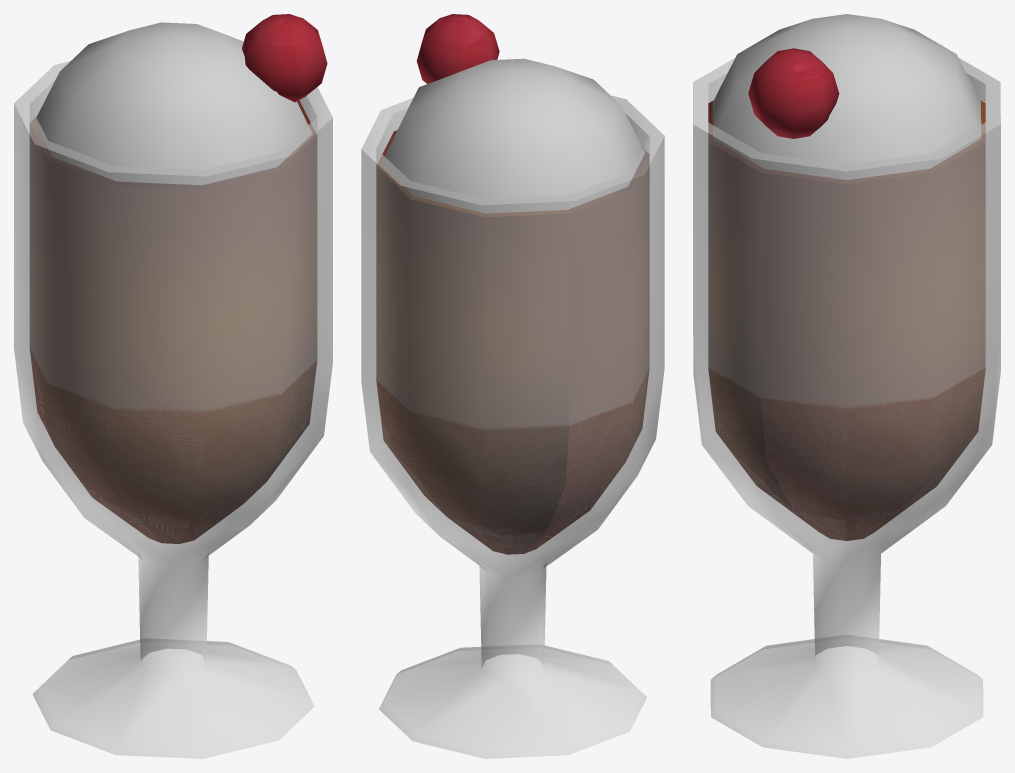
Rendered from prop_foodmenu10c.fbx.
3 renders of one model, left to right at view 1: azimuth 30°, elevation 25°; view 2: azimuth 150°, elevation 25°; view 3: azimuth 270°, elevation 25°, orthographic. The views are drawn at different scales.
Parts seen in each view (by area): view 1: prop_foodmenu10c; view 2: prop_foodmenu10c; view 3: prop_foodmenu10c.
Boxes of the visible parts, box(x1,y1,x2,y2) form: prop_foodmenu10c: box(14, 14, 332, 758); prop_foodmenu10c: box(361, 14, 664, 758); prop_foodmenu10c: box(693, 14, 1000, 758).
Size of the model in its own units: 0.1178 by 0.2763 by 0.1121.
